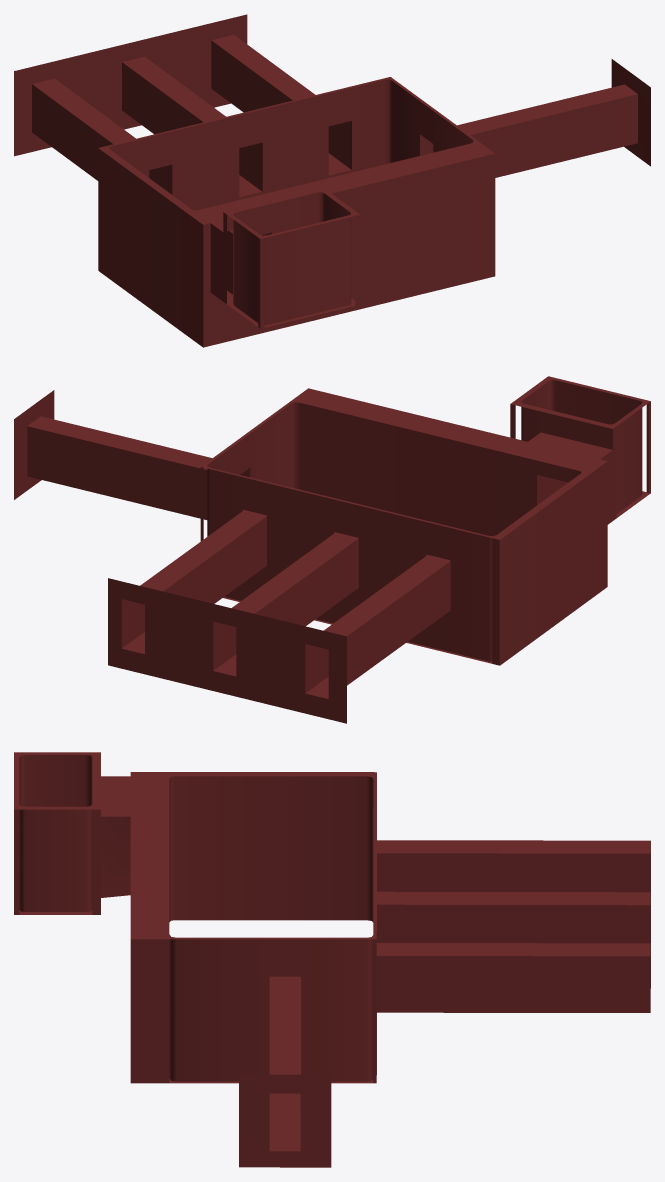
Rendered from BarStructure.fbx.
3 views of the same model, one above another, from view 1: azimuth 30°, elevation 25°; view 2: azimuth 150°, elevation 25°; view 3: azimuth 270°, elevation 25° (orthographic). The views are drawn at different scales.
Parts seen in each view (by area): view 1: Cube__2_, Object001; view 2: Cube__2_, Object001; view 3: Cube__2_, Object001.
Part boxes in pixels (box(x1,y1,x2,y2)): Cube__2_: box(98, 77, 495, 347); Object001: box(14, 14, 650, 197); Cube__2_: box(200, 376, 650, 665); Object001: box(14, 390, 450, 723); Cube__2_: box(14, 752, 376, 1083); Object001: box(239, 840, 650, 1167).
Bounding box in the file's own units: 2951 × 818 × 2811.
